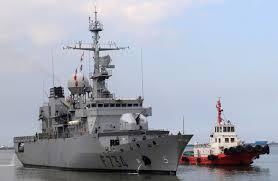tau_muctieu: (17, 42, 191, 178)
